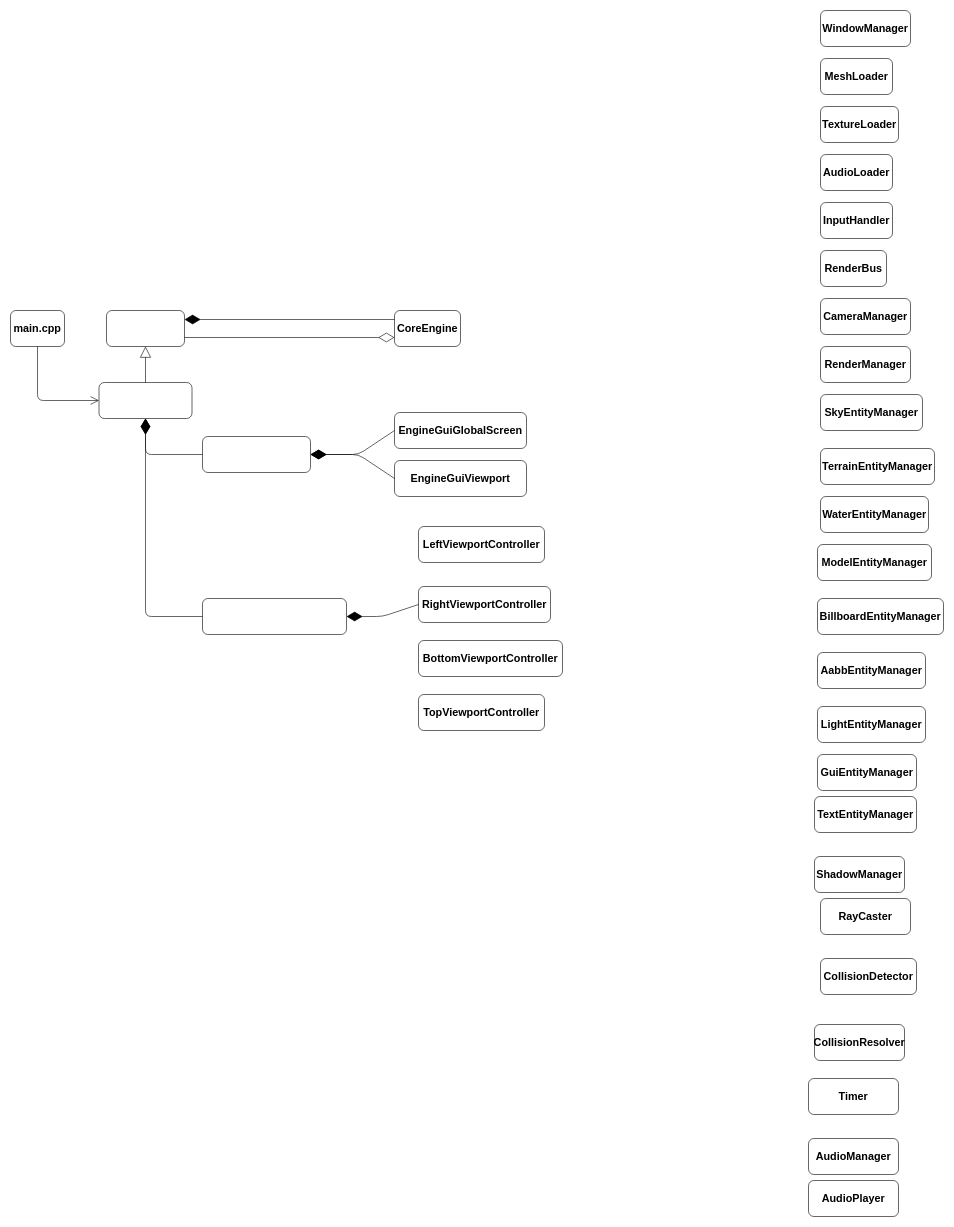
This 954x1227 diagram has some shape labels left out. The box of each missing label's shape, as (x1, y1, x2, y2) in pixels:
BaseViewportController: (202, 598, 346, 634)
EngineController: (98, 382, 192, 418)
EngineGuiManager: (202, 436, 310, 472)
FabiEngine3D: (106, 310, 184, 346)
